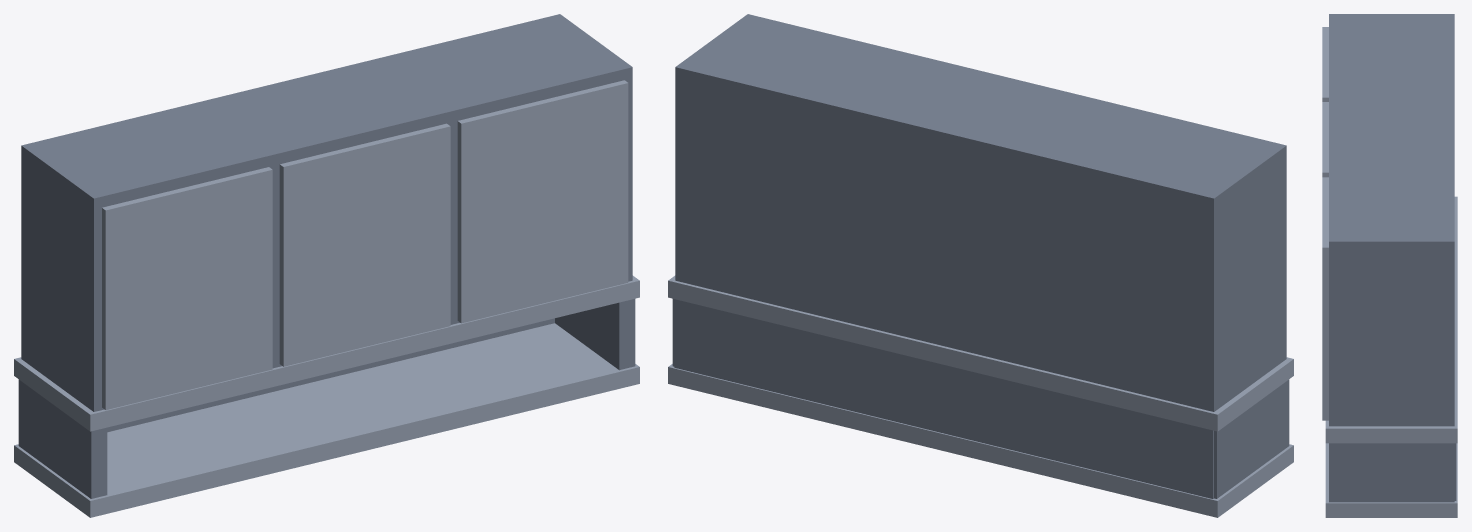
Rendered from wallcabinet.glb.
3 renders of one model, left to right at view 1: azimuth 30°, elevation 25°; view 2: azimuth 150°, elevation 25°; view 3: azimuth 270°, elevation 25°, orthographic. The views are drawn at different scales.
Visible parts, largest first — view 1: wallcabinet; view 2: wallcabinet; view 3: wallcabinet.
Part boxes in pixels (left/top/right/bottom): wallcabinet: left=14, top=14, right=639, bottom=517; wallcabinet: left=668, top=14, right=1293, bottom=517; wallcabinet: left=1322, top=14, right=1457, bottom=517.
Bounding box in the file's own units: 1.53 × 0.8425 × 0.377.
